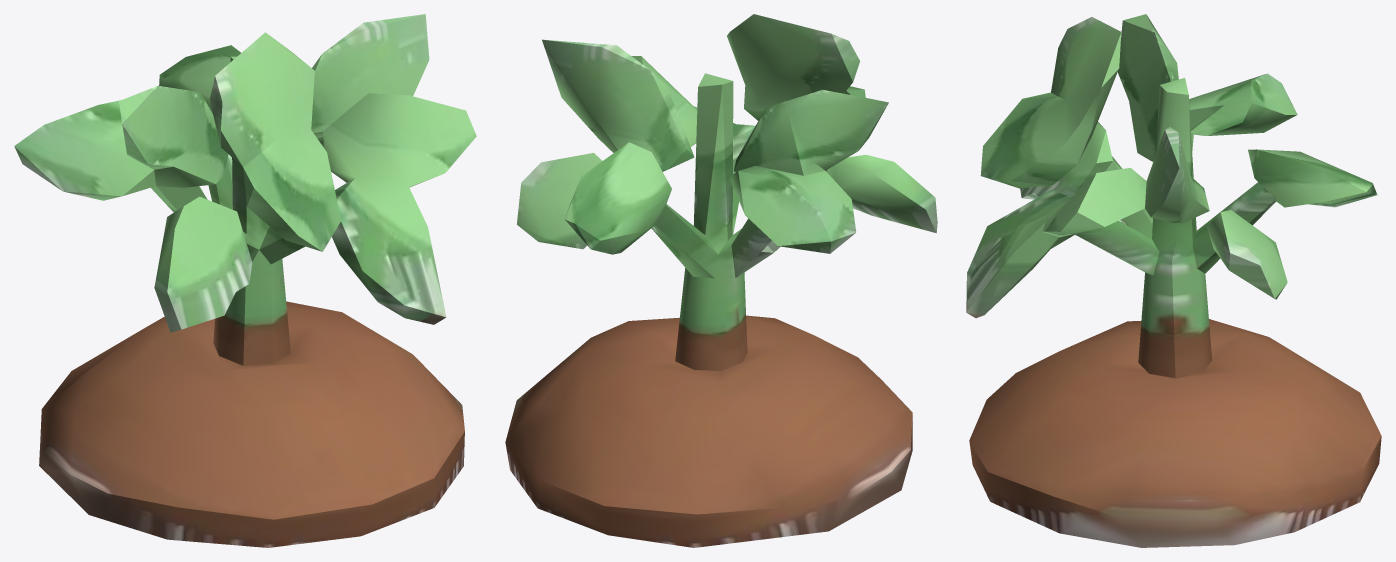
3 views of the same model, side by side, from view 1: azimuth 30°, elevation 25°; view 2: azimuth 150°, elevation 25°; view 3: azimuth 270°, elevation 25° (orthographic). The views are drawn at different scales.
Parts seen in each view (by area): view 1: potato_plant; view 2: potato_plant; view 3: potato_plant.
Part boxes in pixels (<box>): potato_plant: <box>14,14,476,547</box>; potato_plant: <box>505,14,937,547</box>; potato_plant: <box>966,14,1381,547</box>.
Size of the model in its own units: 0.4287 by 0.4984 by 0.4411.
1 material, 1 textured.
